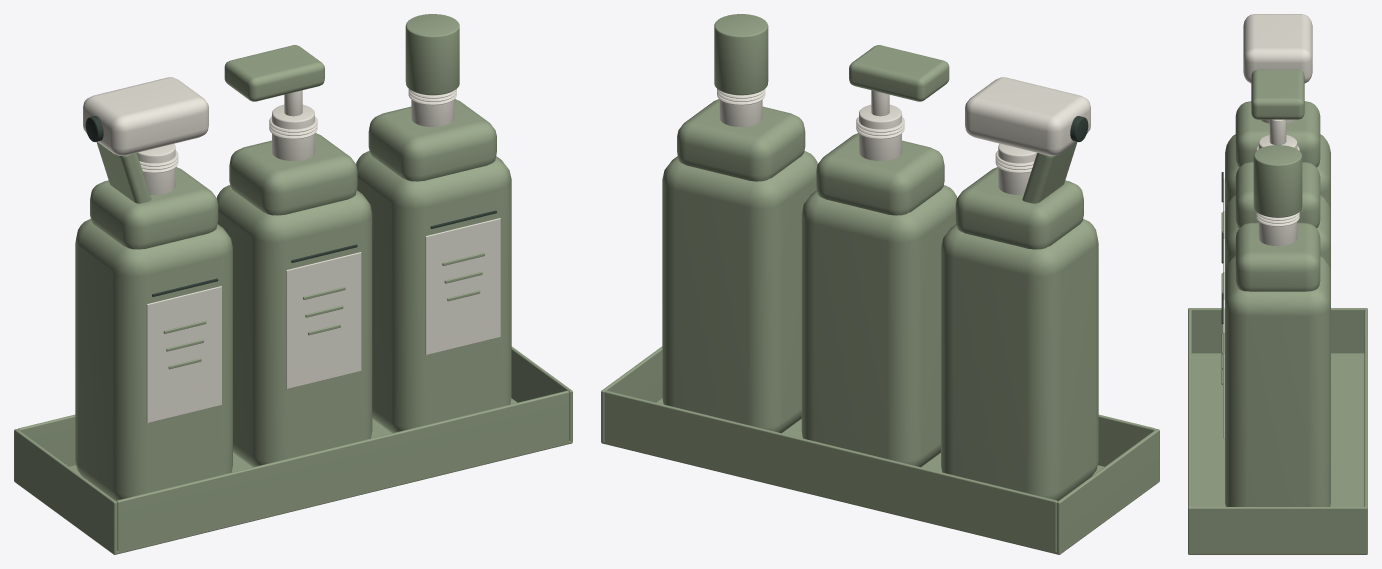
File: quiet-scent.glb
3 renders of one model, left to right at view 1: azimuth 30°, elevation 25°; view 2: azimuth 150°, elevation 25°; view 3: azimuth 270°, elevation 25°, orthographic. The views are drawn at different scales.
Parts seen in each view (by area): view 1: Task bottle -1 molded body, Task bottle 1 molded body, Task bottle 0 molded body, Removable docking tray front, Task bottle 1 task label, Task bottle -1 task label, Task bottle 0 task label, Task bottle 1 shoulder, Task bottle 0 shoulder, Task bottle -1 trigger head, Task bottle -1 shoulder, Removable docking tray left (+9 smaller); view 2: Task bottle -1 molded body, Task bottle 1 molded body, Task bottle 0 molded body, Removable docking tray back, Task bottle 1 shoulder, Task bottle 0 shoulder, Task bottle -1 trigger head, Task bottle -1 shoulder, Removable docking tray left, Task bottle 1 closure, Task bottle 0 pump top, Removable docking tray right (+6 smaller); view 3: Task bottle 1 molded body, Removable docking tray floor, Removable docking tray right, Task bottle 1 shoulder, Task bottle -1 trigger head, Task bottle 1 closure, Removable docking tray left, Task bottle -1 shoulder, Task bottle 0 pump top, Task bottle 0 shoulder, Task bottle -1 molded body, Task bottle 0 molded body (+6 smaller).
Boxes of the visible parts, bbox=[...] form: Task bottle -1 molded body: bbox=[75, 219, 232, 500]; Task bottle 1 molded body: bbox=[356, 151, 511, 433]; Task bottle 0 molded body: bbox=[217, 185, 372, 467]; Removable docking tray front: bbox=[116, 390, 569, 553]; Task bottle 1 task label: bbox=[425, 218, 500, 355]; Task bottle -1 task label: bbox=[146, 286, 221, 423]; Task bottle 0 task label: bbox=[286, 252, 361, 388]; Task bottle 1 shoulder: bbox=[368, 99, 496, 181]; Task bottle 0 shoulder: bbox=[229, 133, 357, 215]; Task bottle -1 trigger head: bbox=[83, 77, 208, 155]; Task bottle -1 shoulder: bbox=[90, 167, 218, 249]; Removable docking tray left: bbox=[14, 429, 117, 554]; Task bottle -1 molded body: bbox=[941, 219, 1098, 500]; Task bottle 1 molded body: bbox=[662, 151, 817, 433]; Task bottle 0 molded body: bbox=[801, 185, 956, 467]; Removable docking tray back: bbox=[604, 390, 1057, 553]; Task bottle 1 shoulder: bbox=[677, 99, 805, 181]; Task bottle 0 shoulder: bbox=[816, 133, 944, 215]; Task bottle -1 trigger head: bbox=[965, 77, 1090, 155]; Task bottle -1 shoulder: bbox=[955, 167, 1083, 249]; Removable docking tray left: bbox=[1056, 429, 1159, 554]; Task bottle 1 closure: bbox=[714, 14, 768, 95]; Task bottle 0 pump top: bbox=[849, 45, 949, 101]; Removable docking tray right: bbox=[601, 346, 662, 443]; Task bottle 1 molded body: bbox=[1225, 256, 1330, 506]; Removable docking tray floor: bbox=[1188, 353, 1367, 554]; Removable docking tray right: bbox=[1188, 507, 1367, 553]; Task bottle 1 shoulder: bbox=[1235, 222, 1320, 291]; Task bottle -1 trigger head: bbox=[1243, 14, 1312, 83]; Task bottle 1 closure: bbox=[1253, 145, 1302, 217]; Removable docking tray left: bbox=[1188, 308, 1367, 353]; Task bottle -1 shoulder: bbox=[1235, 101, 1320, 167]; Task bottle 0 pump top: bbox=[1251, 69, 1304, 119]; Task bottle 0 shoulder: bbox=[1235, 162, 1320, 228]; Task bottle -1 molded body: bbox=[1225, 134, 1330, 212]; Task bottle 0 molded body: bbox=[1225, 195, 1330, 272].
Bounding box in the file's own units: 0.29 × 0.245 × 0.11.
